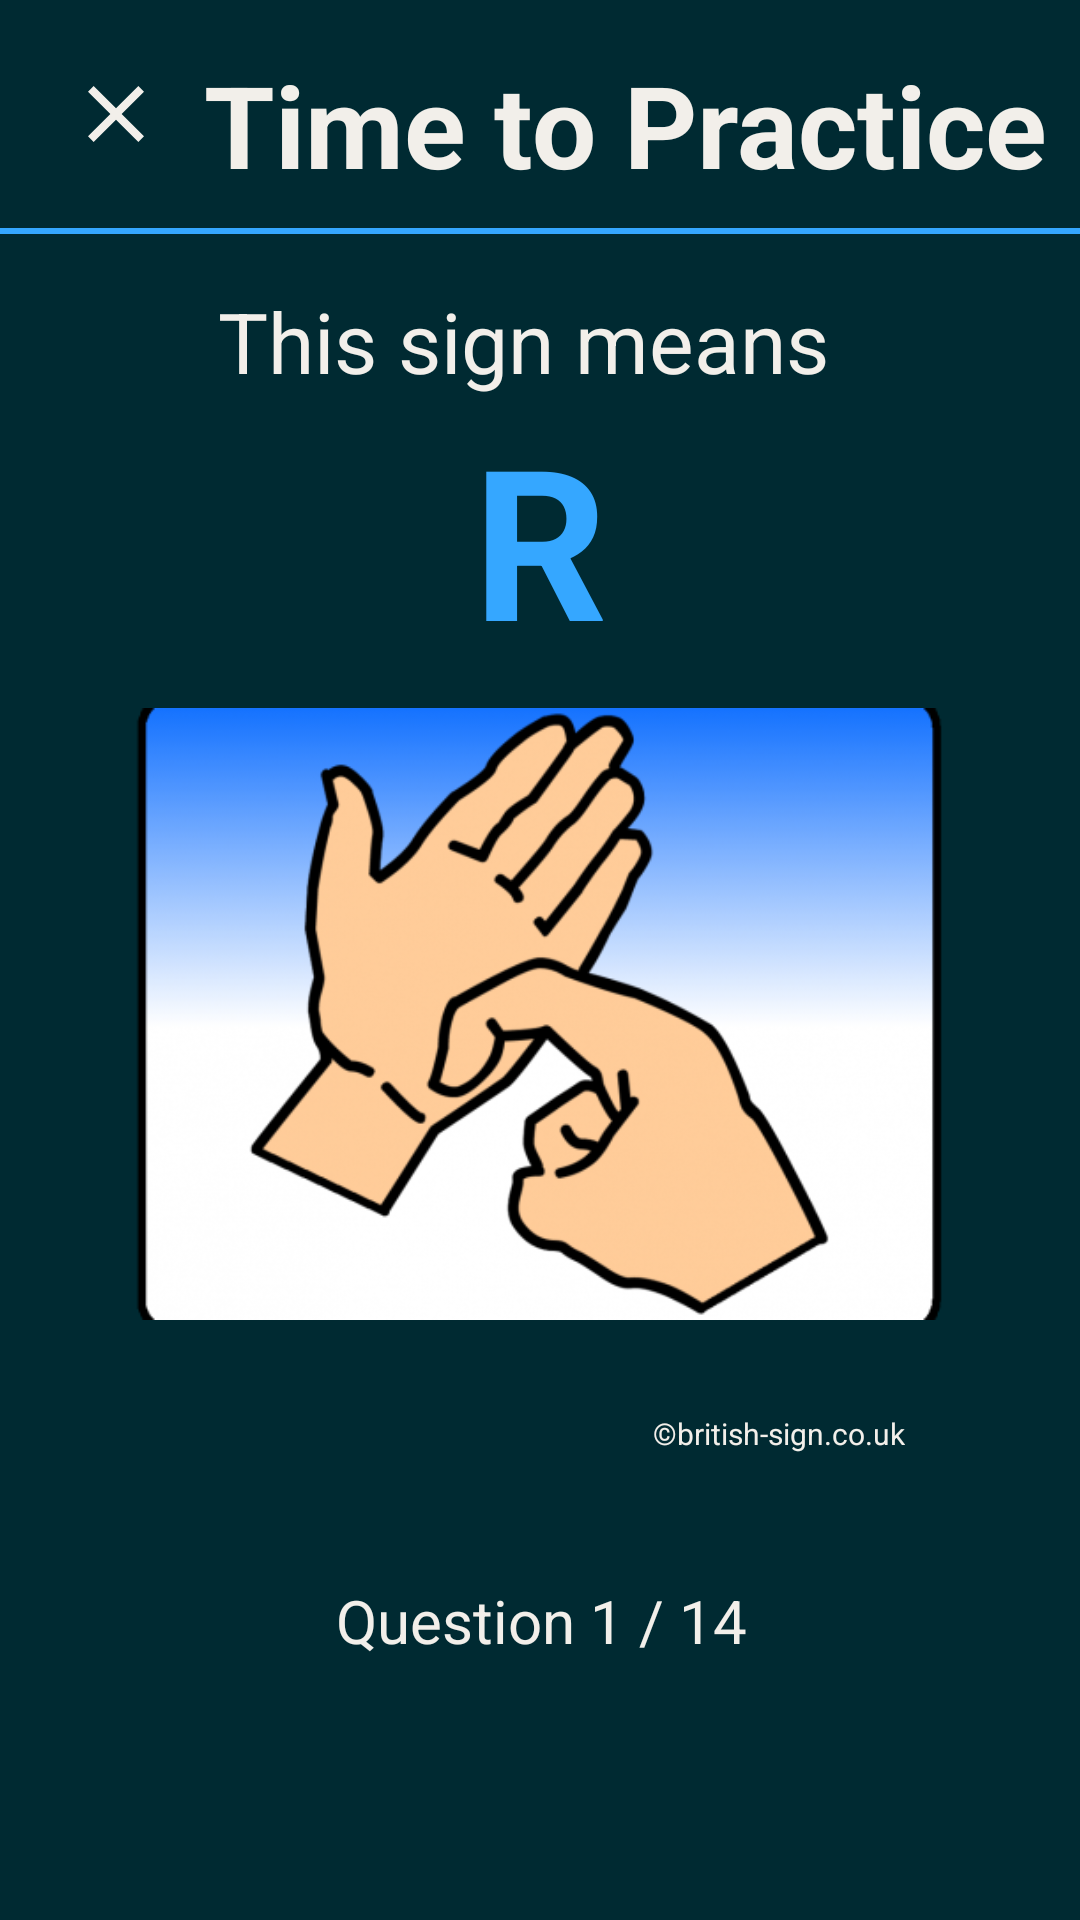

Where to tap for icons on this 1080 × 1920 app screen, as point (x, y):
cross cream: point (116, 114)
